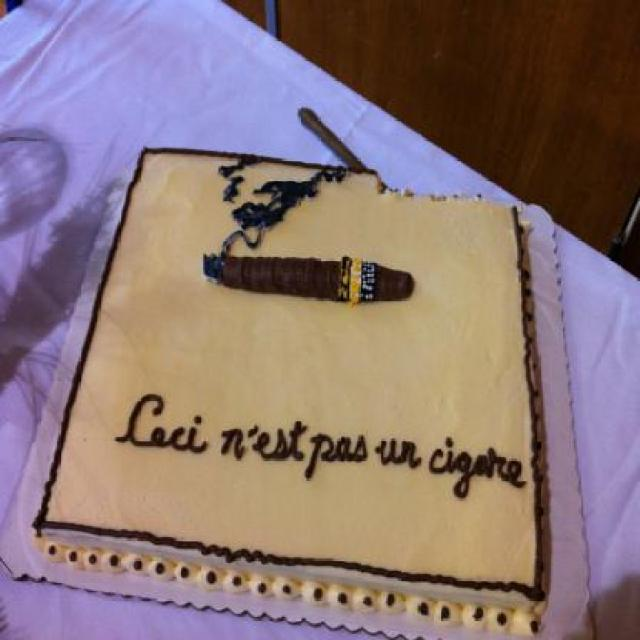Cake: (32, 143, 548, 639)
